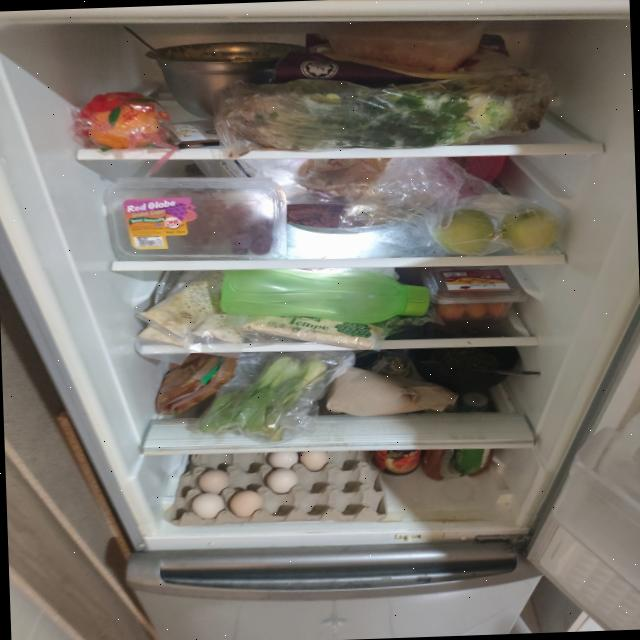apple: (500, 206, 559, 253)
egg: (169, 448, 388, 527)
grape: (109, 171, 288, 266)
leafy_greens: (215, 72, 546, 154)
orange: (84, 96, 158, 149)
pakchoy: (197, 352, 329, 436)
tempeh: (134, 268, 246, 350), (244, 310, 385, 354), (430, 208, 496, 256)
